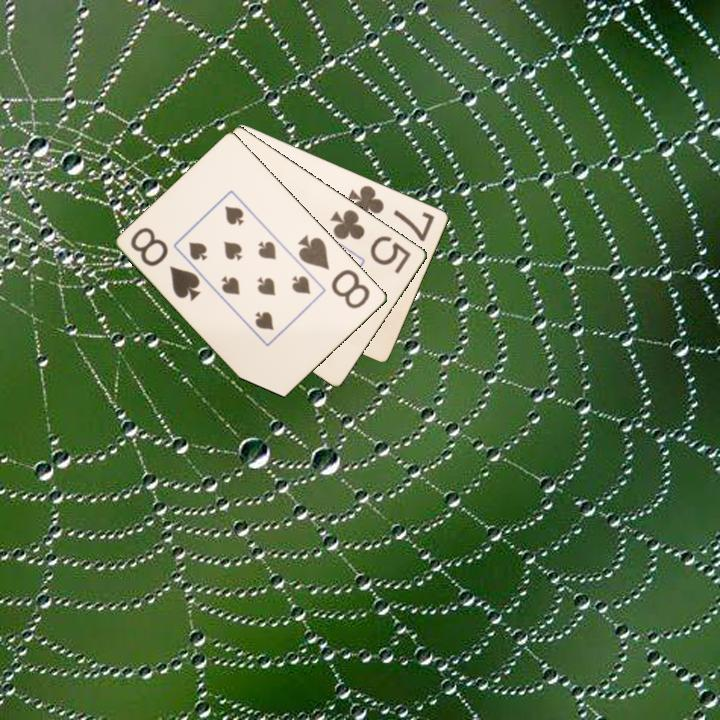5c: (326, 206, 414, 277)
7c: (344, 182, 438, 244)
8s: (295, 231, 374, 312), (127, 224, 204, 304)
